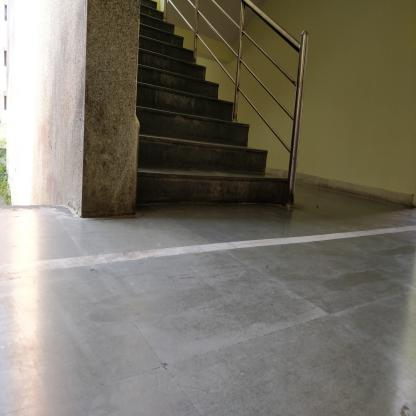stairs: (142, 65, 203, 219)
